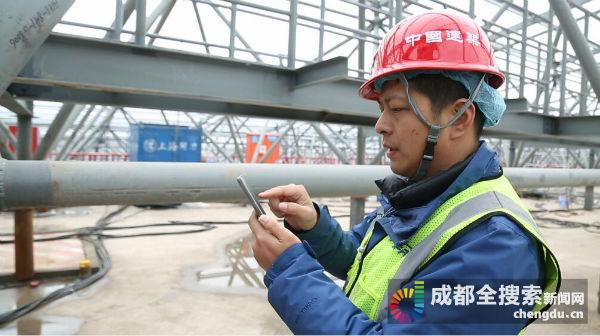helmet: (357, 11, 508, 104)
